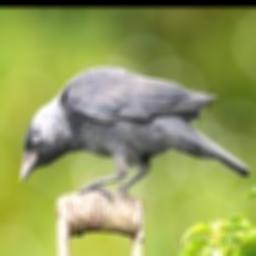Crow: (22, 65, 253, 202)
